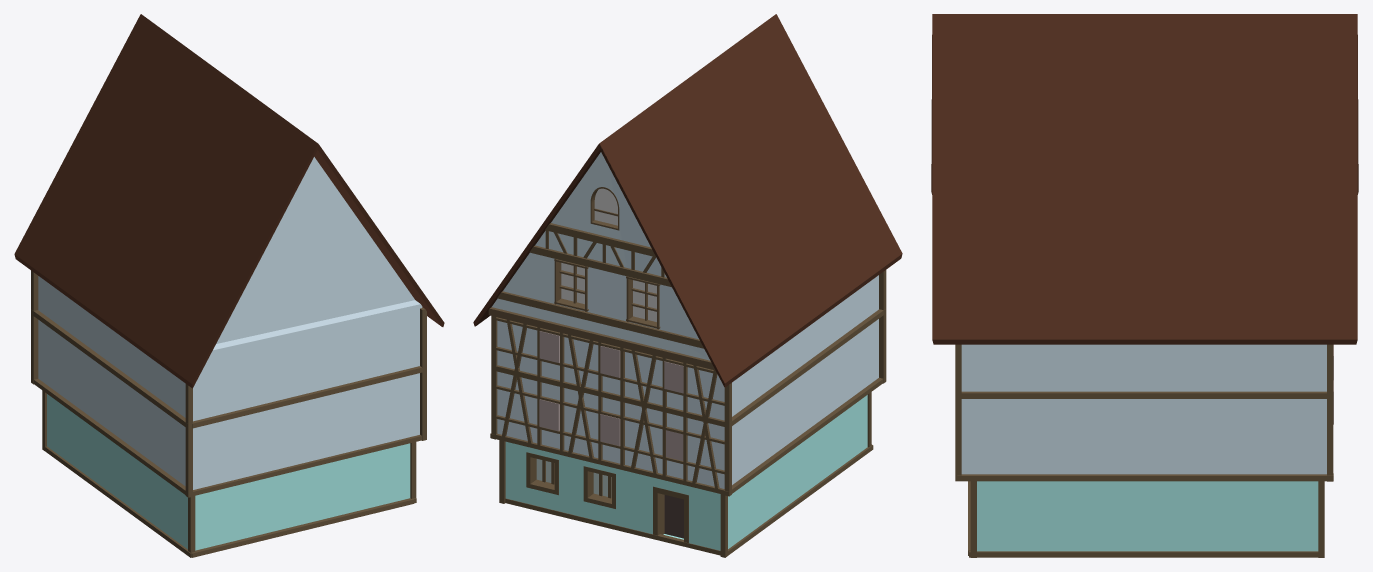
Rendered from house2ver2.fbx.
The picture shows the model from 3 angles, left to right: view 1: azimuth 30°, elevation 25°; view 2: azimuth 150°, elevation 25°; view 3: azimuth 270°, elevation 25°; orthographic projection. The views are drawn at different scales.
Parts seen in each view (by area): view 1: Roof, Floor_2, Floor_3, Base_Stone, 円, 立方体.094, 立方体.098, 立方体.089, 立方体.093, 立方体.088, 立方体.097, 立方体.090 (+2 smaller); view 2: Roof, Floor_2, Base_Stone, 円, Floor_3, 立方体.031, 立方体.061, 立方体.093, 立方体.092, 立方体.088, 立方体.030, 立方体.052 (+27 smaller); view 3: Roof, Floor_2, Base_Stone, Floor_3, 立方体.087, 立方体.081, 立方体.095, 立方体.022, 立方体.090, 立方体.024, 立方体.096.
Boxes of the visible parts, x1,y1,x2,y2 form: Roof: (14,14,444,388); Floor_2: (38,320,419,489); Floor_3: (38,276,422,421); Base_Stone: (47,394,410,550); 円: (216,157,414,343); 立方体.094: (192,366,423,428); 立方体.098: (191,498,414,557); 立方体.089: (192,435,421,496); 立方体.093: (31,310,187,428); 立方体.088: (34,378,185,494); 立方体.097: (45,447,191,557); 立方体.090: (420,307,426,440); Roof: (473,14,902,387); Floor_2: (497,319,878,488); Base_Stone: (505,395,867,550); 円: (492,152,710,360); Floor_3: (497,275,878,420); 立方体.031: (488,307,715,370); 立方体.061: (497,291,703,348); 立方体.093: (730,309,885,427); 立方体.092: (495,365,725,426); 立方体.088: (724,377,883,496); 立方体.030: (495,433,724,494); 立方体.052: (529,245,671,287); Roof: (931,14,1358,344); Floor_2: (961,399,1326,474); Base_Stone: (977,481,1318,551); Floor_3: (961,344,1326,391); 立方体.087: (957,473,1333,481); 立方体.081: (956,391,1326,398); 立方体.095: (969,551,1318,557); 立方体.022: (1327,344,1333,481); 立方体.090: (955,344,961,481); 立方体.024: (1318,481,1324,557); 立方体.096: (970,481,976,557).
Size of the model in its own units: 1275 by 1921 by 1559.
